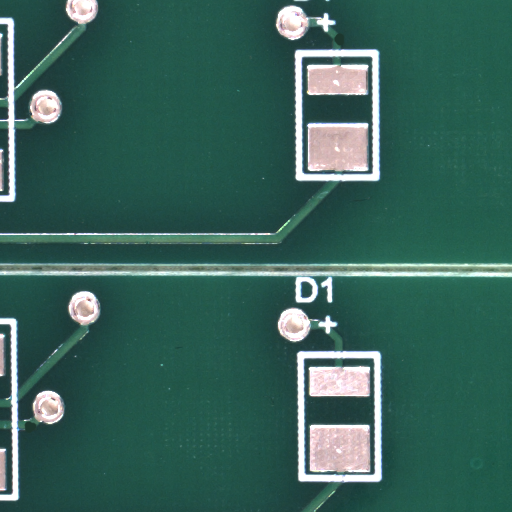Mouse_bite: (339, 39, 349, 52), (30, 427, 41, 437)
